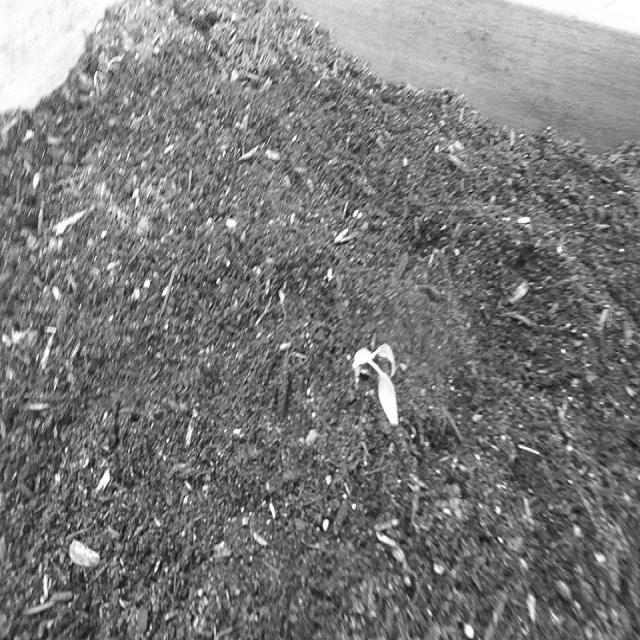Healthy: (349, 338, 403, 432)
